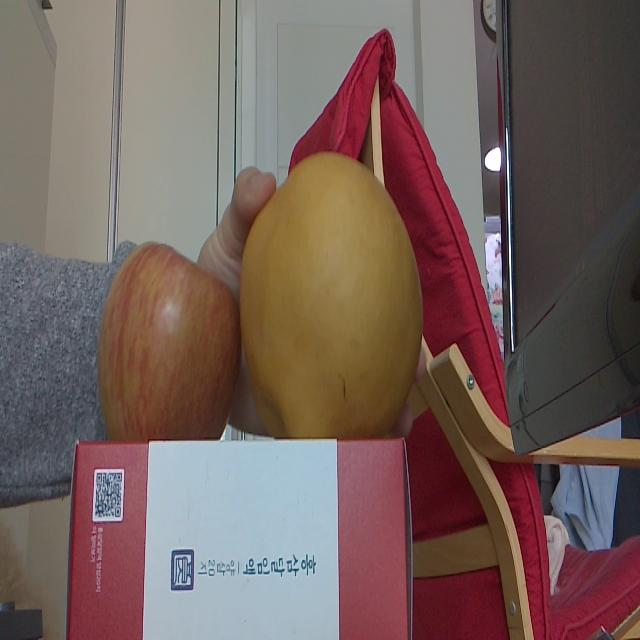apple: (96, 242, 241, 442)
pear: (243, 151, 425, 436)
